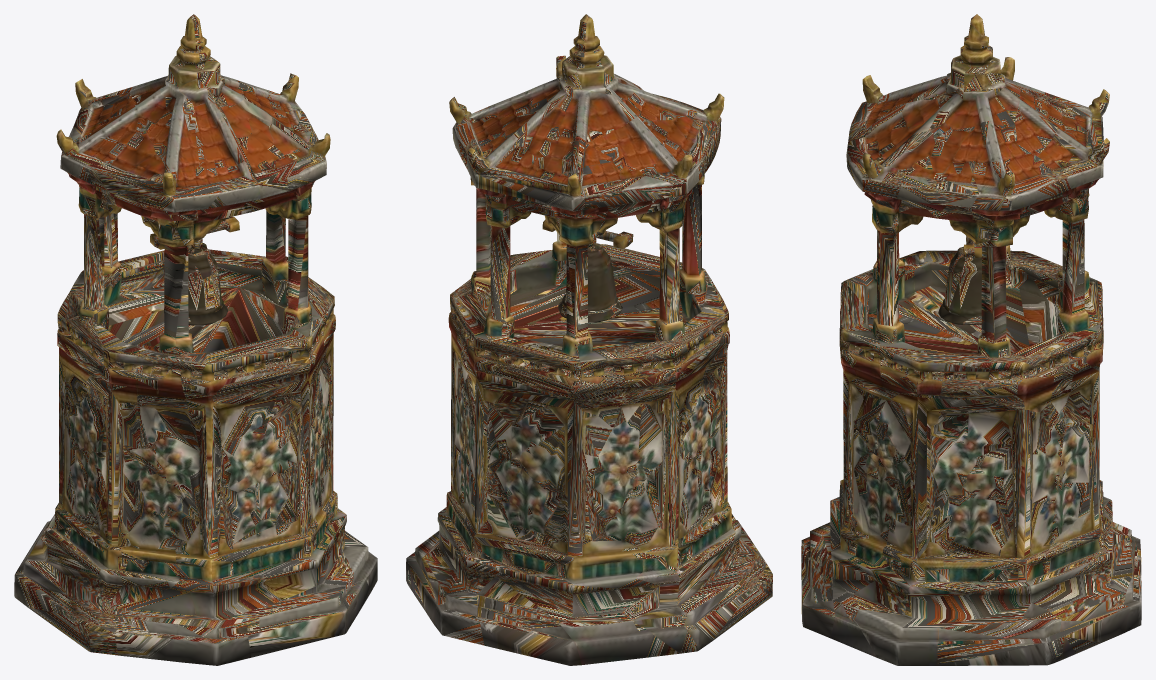
The model's file is bq_sword_pav.lod.glb.
The picture shows the model from 3 angles, left to right: view 1: azimuth 30°, elevation 25°; view 2: azimuth 150°, elevation 25°; view 3: azimuth 270°, elevation 25°; orthographic projection.
Parts seen in each view (by area): view 1: mesh_node; view 2: mesh_node; view 3: mesh_node.
Boxes of the visible parts, x1,y1,x2,y2 form: mesh_node: [14, 14, 377, 665]; mesh_node: [406, 14, 772, 665]; mesh_node: [801, 14, 1141, 665].
Bounding box in the file's own units: 1.01 × 1.9 × 1.01.
Materials: 1 (1 with a texture image).
